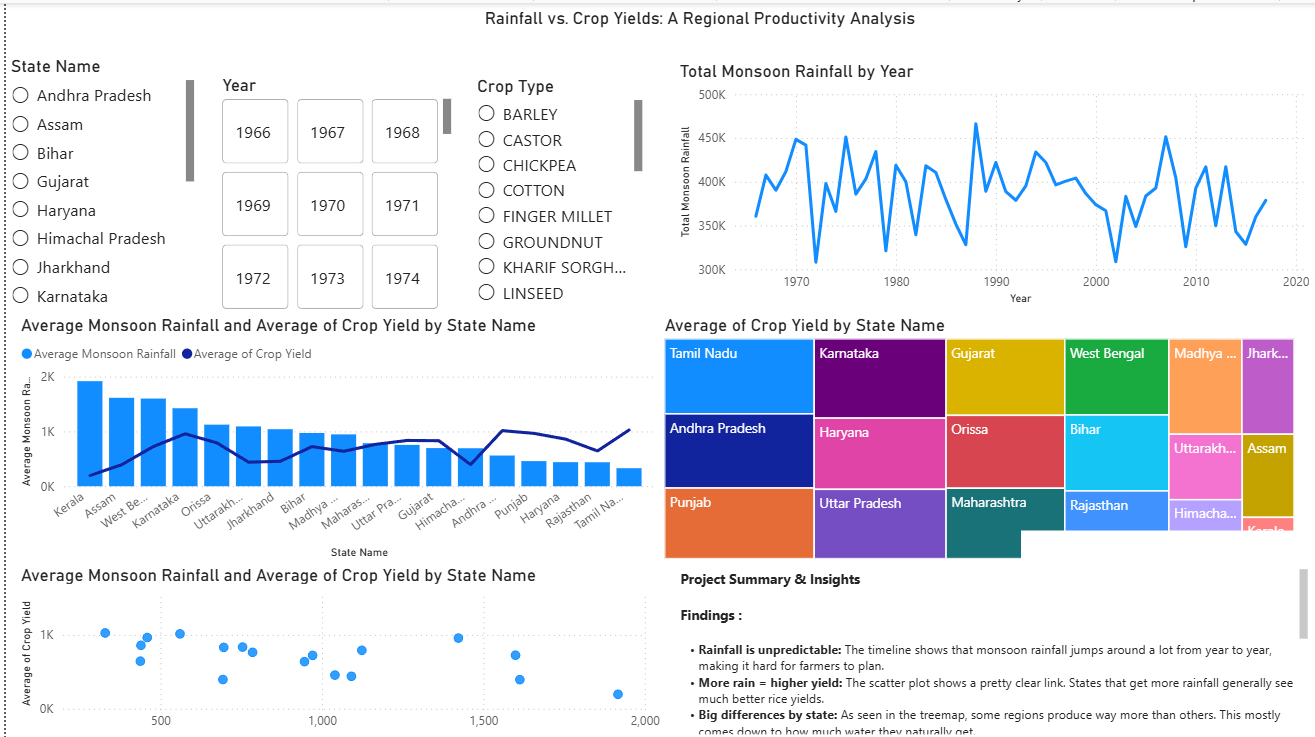

The page's visual inventory and layout, read from the dashboard file:
{"tool":"powerbi","page":{"name":"Page 1","canvas":[1280,720],"ordinal":0},"visuals":[{"type":"lineChart","fields":{"Category":["rain-agriculture.Year"],"Y":["rain-agriculture.Total Monsoon Rainfall"]},"box":[654.5,56.3,625.7,244.3],"z":0},{"type":"lineClusteredColumnComboChart","fields":{"Category":["rain-agriculture.State Name"],"Y2":["Avg(rain-agriculture.Crop Yield)"],"Y":["rain-agriculture.Average Monsoon Rainfall"]},"box":[9.6,304.6,629.8,244.3],"z":1000},{"type":"scatterChart","fields":{"Category":["rain-agriculture.State Name"],"X":["rain-agriculture.Average Monsoon Rainfall"],"Y":["Avg(rain-agriculture.Crop Yield)"]},"box":[9.6,548.9,635.3,171.5],"z":2000},{"type":"treemap","fields":{"Group":["rain-agriculture.State Name"],"Values":["Avg(rain-agriculture.Crop Yield)"]},"box":[639.5,304.6,625.7,244.3],"z":3000},{"type":"listSlicer","fields":{"Values":["rain-agriculture.State Name"]},"box":[0,50.8,189.4,253.9],"z":4000},{"type":"advancedSlicerVisual","fields":{"Values":["rain-agriculture.Year"]},"box":[207.2,70,234.6,234.6],"z":5000},{"type":"textbox","box":[993,516,287,204],"z":6000},{"type":"textbox","box":[654.5,548.9,624.4,171.5],"z":7000},{"type":"listSlicer","fields":{"Values":["rain-agriculture.Crop Type"]},"box":[455.6,71.4,171.5,234.6],"z":8000},{"type":"shape","title":"Rainfall vs. Crop Yields: A Regional Productivity Analysis","box":[220.9,5.5,915.3,50.8],"z":9000}]}

Visuals, with their boxes in screenshot pixels (x1, y1, x2, y2), scaled from the page's 1280x720 canvas onto the 1315x737 screenshot:
lineChart - rain-agriculture.Year x rain-agriculture.Total Monsoon Rainfall: l=672, t=58, r=1314, b=308
lineClusteredColumnComboChart - rain-agriculture.State Name x Avg(rain-agriculture.Crop Yield): l=10, t=312, r=657, b=562
scatterChart - rain-agriculture.State Name x rain-agriculture.Average Monsoon Rainfall: l=10, t=562, r=663, b=736
treemap - rain-agriculture.State Name x Avg(rain-agriculture.Crop Yield): l=657, t=312, r=1300, b=562
listSlicer - rain-agriculture.State Name: l=0, t=52, r=195, b=312
advancedSlicerVisual - rain-agriculture.Year: l=213, t=72, r=454, b=312
textbox: l=1020, t=528, r=1314, b=736
textbox: l=672, t=562, r=1314, b=736
listSlicer - rain-agriculture.Crop Type: l=468, t=73, r=644, b=313
"Rainfall vs. Crop Yields: A Regional Productivity Analysis" shape: l=227, t=6, r=1167, b=58
